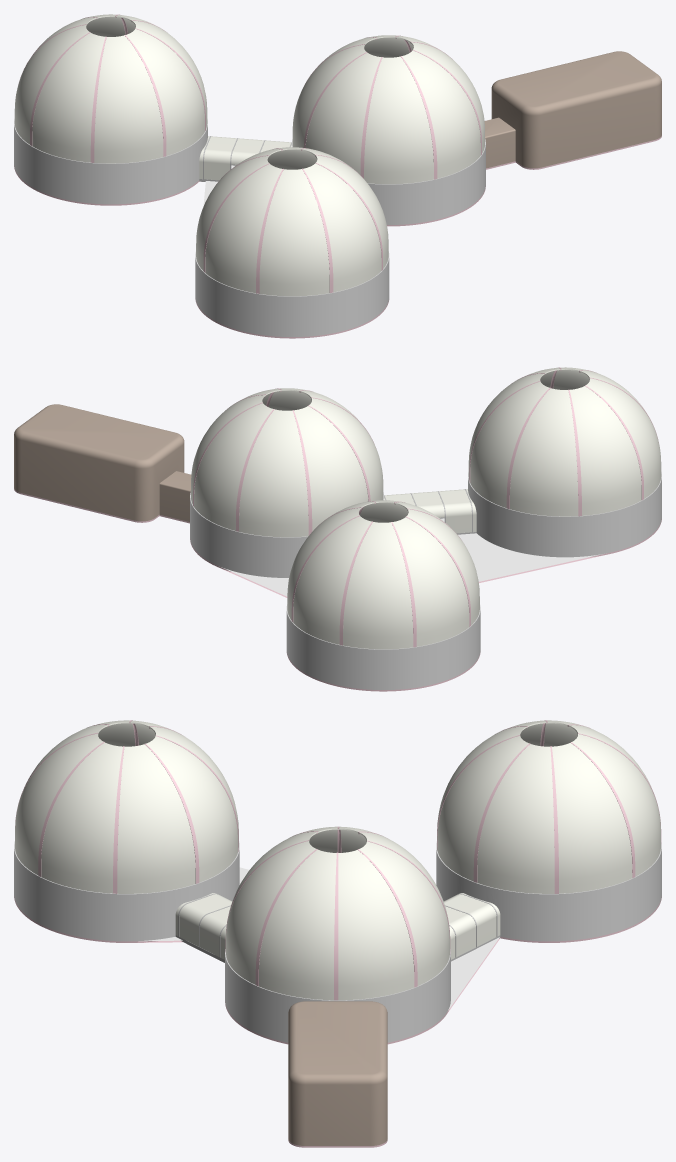
The model's file is CentralDomeTest.fbx.
The picture shows the model from 3 angles, top to bottom: view 1: azimuth 30°, elevation 25°; view 2: azimuth 150°, elevation 25°; view 3: azimuth 270°, elevation 25°; orthographic projection. The views are drawn at different scales.
Parts seen in each view (by area): view 1: GlassDome.003, GlassDome.004, GlassDome.002, LibraryRoom, OuterUpperLevelV2.001, OuterUpperLevelV2.002, OuterGroundLevelV2.001, OuterGroundLevelV2.004, OuterUpperLevelV2, GlassCorridor.003, OuterGroundLevelV2, Floor; view 2: GlassDome.003, GlassDome.004, GlassDome.002, LibraryRoom, OuterUpperLevelV2.002, OuterUpperLevelV2.001, Floor, OuterGroundLevelV2.004, OuterGroundLevelV2.001, OuterUpperLevelV2, GlassCorridor, OuterGroundLevelV2; view 3: GlassDome.002, GlassDome.004, GlassDome.003, LibraryRoom, OuterUpperLevelV2.001, OuterUpperLevelV2.002, OuterGroundLevelV2.001, OuterGroundLevelV2.004, OuterUpperLevelV2, OuterGroundLevelV2, Floor, GlassCorridor.003 (+1 smaller).
Boxes of the visible parts, x1,y1,x2,y2 form: GlassDome.003: [196, 147, 388, 296]; GlassDome.004: [14, 14, 207, 163]; GlassDome.002: [292, 35, 484, 184]; LibraryRoom: [484, 51, 661, 168]; OuterUpperLevelV2.001: [195, 251, 389, 317]; OuterUpperLevelV2.002: [14, 119, 207, 184]; OuterGroundLevelV2.001: [195, 279, 389, 336]; OuterGroundLevelV2.004: [14, 146, 199, 204]; OuterUpperLevelV2: [292, 139, 485, 205]; GlassCorridor.003: [199, 136, 291, 180]; OuterGroundLevelV2: [381, 166, 485, 224]; Floor: [14, 135, 661, 338]; GlassDome.003: [468, 367, 661, 516]; GlassDome.004: [287, 500, 479, 649]; GlassDome.002: [190, 388, 383, 537]; LibraryRoom: [14, 404, 191, 521]; OuterUpperLevelV2.002: [286, 604, 480, 670]; OuterUpperLevelV2.001: [468, 472, 661, 537]; Floor: [14, 488, 661, 691]; OuterGroundLevelV2.004: [286, 632, 480, 689]; OuterGroundLevelV2.001: [476, 499, 661, 557]; OuterUpperLevelV2: [190, 492, 383, 558]; GlassCorridor: [384, 489, 476, 533]; OuterGroundLevelV2: [190, 519, 294, 577]; GlassDome.002: [225, 826, 450, 1000]; GlassDome.004: [437, 720, 661, 893]; GlassDome.003: [15, 720, 238, 893]; LibraryRoom: [288, 1001, 387, 1145]; OuterUpperLevelV2.001: [14, 841, 239, 918]; OuterUpperLevelV2.002: [436, 841, 661, 918]; OuterGroundLevelV2.001: [14, 874, 239, 941]; OuterGroundLevelV2.004: [436, 874, 661, 941]; OuterUpperLevelV2: [225, 949, 450, 1019]; OuterGroundLevelV2: [225, 979, 450, 1042]; Floor: [14, 867, 661, 1147]; GlassCorridor.003: [443, 893, 500, 959].
Size of the model in its own units: 6564 by 1644 by 5990.
